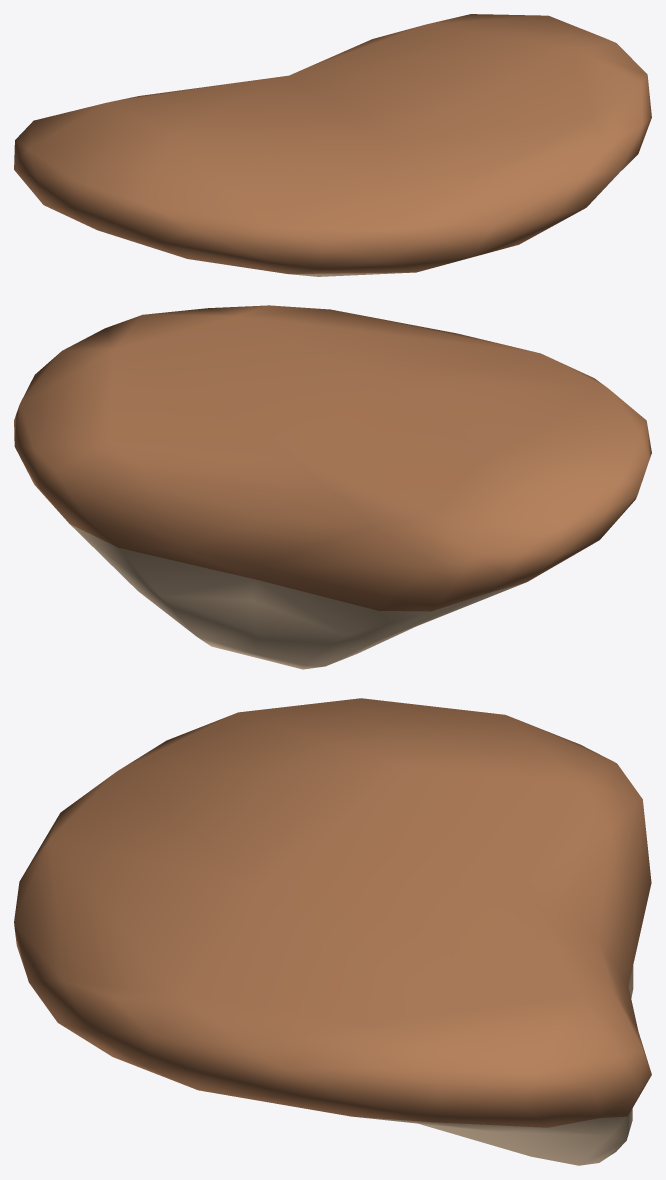
File: Mushoom_03.fbx
3 renders of one model, top to bottom at view 1: azimuth 30°, elevation 25°; view 2: azimuth 150°, elevation 25°; view 3: azimuth 270°, elevation 25°, orthographic. The views are drawn at different scales.
Parts seen in each view (by area): view 1: Mushoom_03_LOD0; view 2: Mushoom_03_LOD0; view 3: Mushoom_03_LOD0.
Part boxes in pixels (bbox=[...]): Mushoom_03_LOD0: bbox=[14, 14, 651, 276]; Mushoom_03_LOD0: bbox=[14, 305, 651, 669]; Mushoom_03_LOD0: bbox=[14, 698, 651, 1165].
Size of what is drawn, in the model's own units: 0.1971 by 0.0663 by 0.1408.
